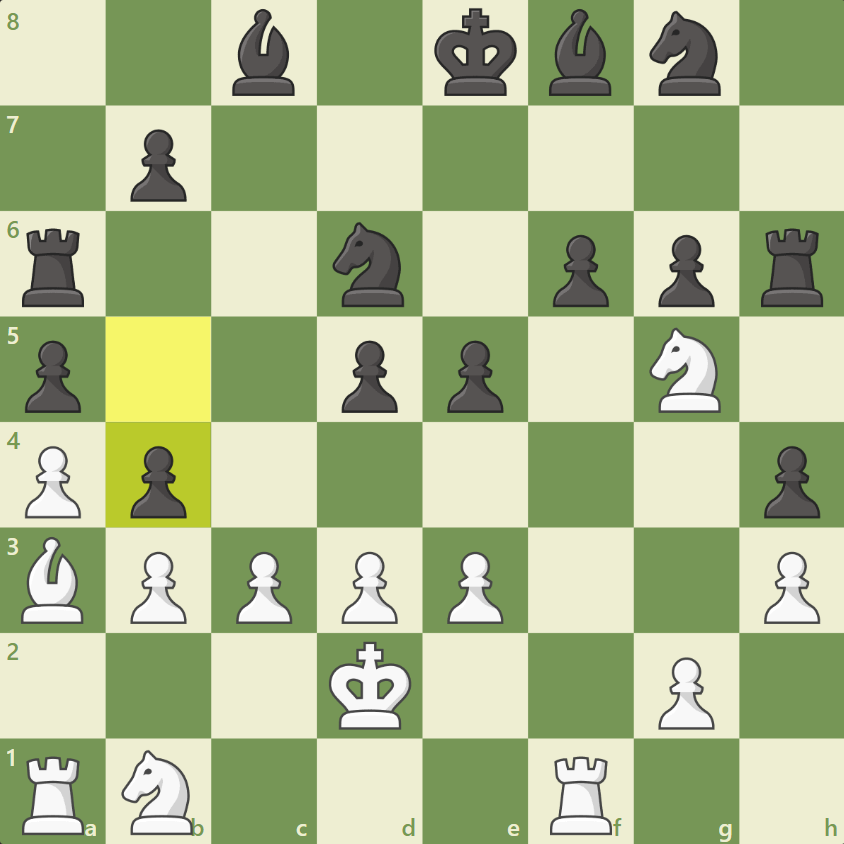B: (18, 535, 85, 626)
K: (324, 638, 414, 732)
N: (120, 748, 198, 838), (648, 327, 725, 417)
P: (20, 440, 85, 522), (653, 654, 720, 733), (127, 548, 190, 628), (760, 549, 823, 628), (234, 549, 294, 628), (339, 550, 400, 627), (445, 550, 505, 627)
R: (17, 753, 88, 839), (546, 755, 616, 838)
b: (545, 7, 616, 101), (229, 7, 297, 99)
k: (430, 5, 521, 100)
n: (646, 7, 725, 100), (330, 219, 406, 310)
p: (127, 442, 189, 522), (338, 338, 401, 416), (128, 126, 189, 206), (656, 234, 718, 311), (445, 338, 506, 416), (551, 232, 612, 310), (762, 444, 823, 521), (23, 339, 81, 414)
r: (757, 227, 826, 313), (17, 226, 87, 310)
